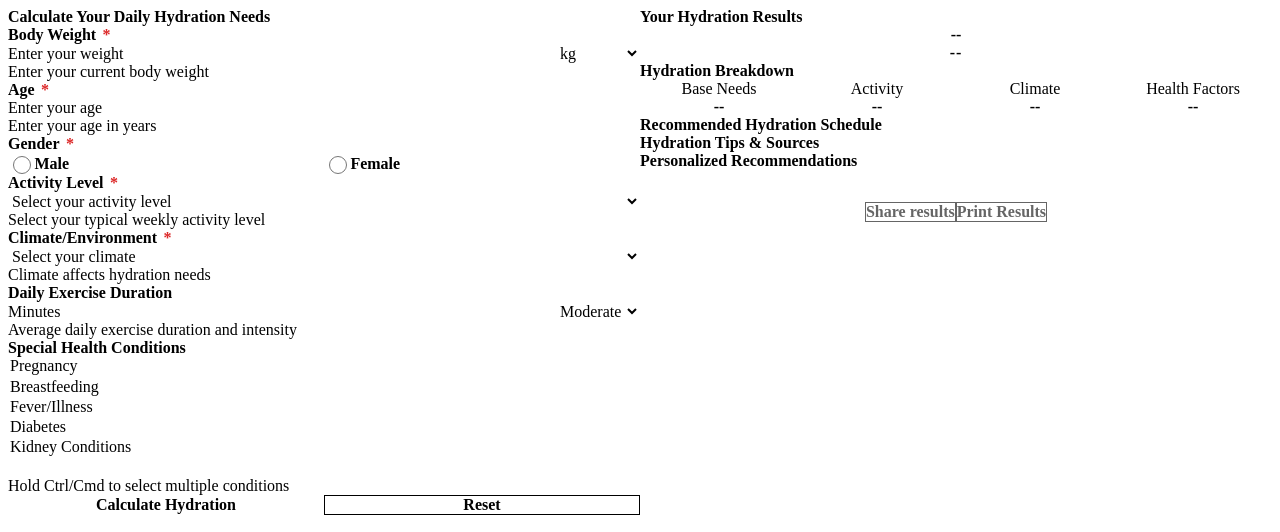
Test case: HydrationCalculator › computes the source water target, breakdown, and schedule
Type "80" into the number field named "Body Weight". click: (282, 54)
box: [8,44,556,63]
Type "30" into the number field labelled "Age". click: (324, 108)
box: [8,99,640,117]
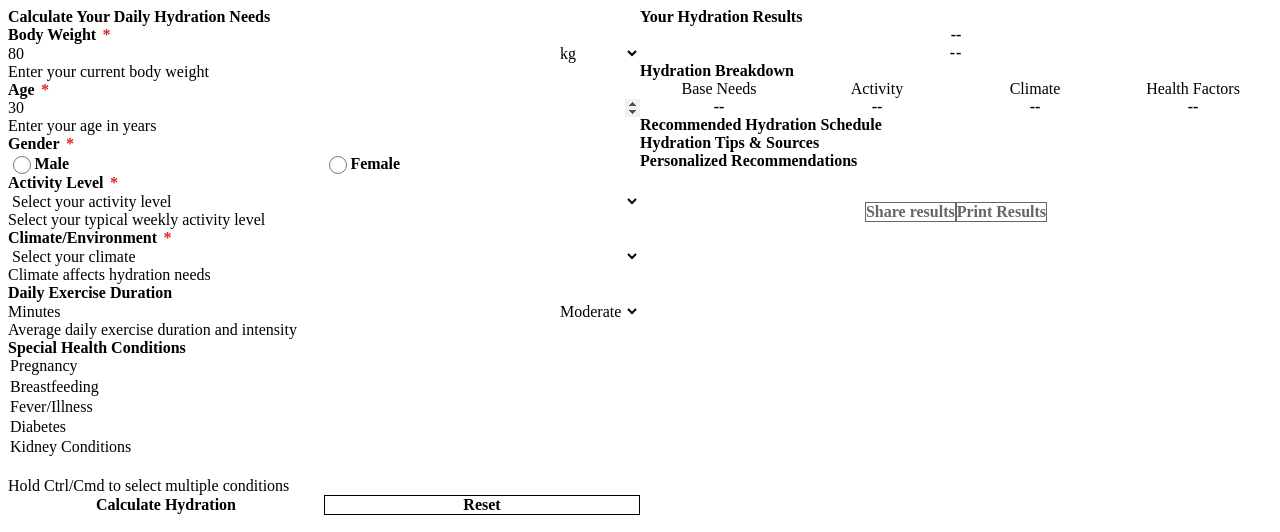
Click the radio button labelled "Male". click: (22, 165)
box: [13,156,31,174]
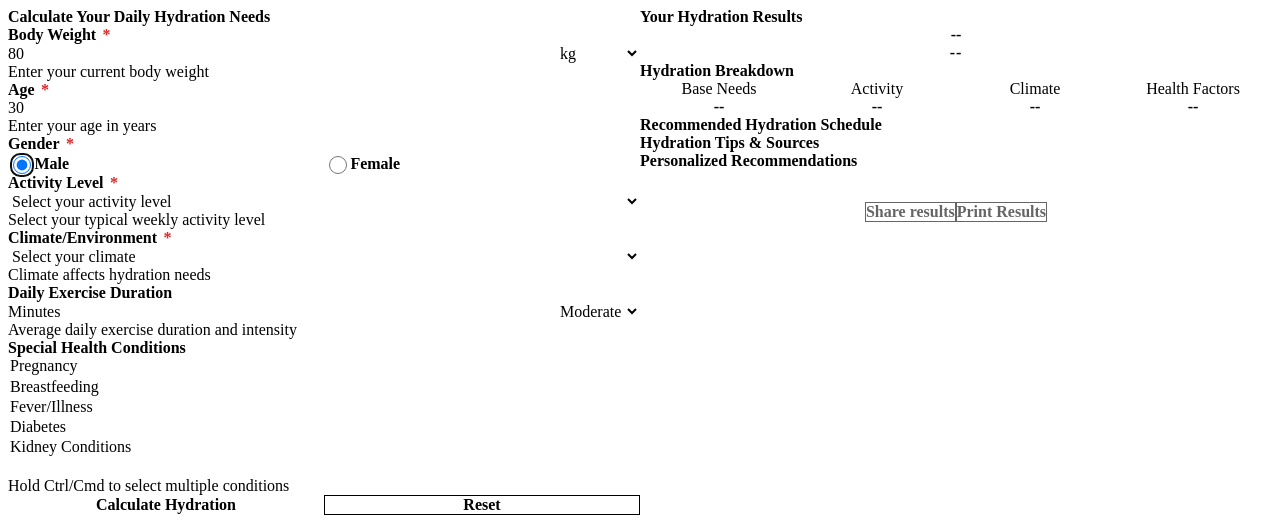
Select "Moderate (exercise 3-5 days/week)" in the dropdown labelled "Activity Level". click: (324, 202)
box: [8,192,640,211]
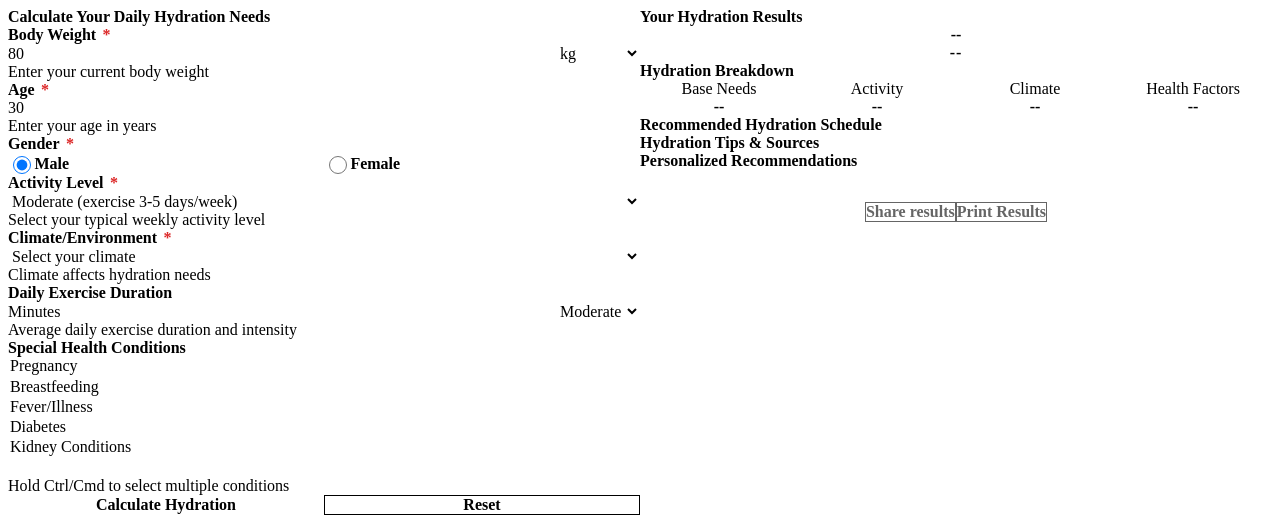
Select "Temperate (moderate temperature)" in the dropdown labelled "Climate/Environment". click: (324, 257)
box: [8,247,640,266]
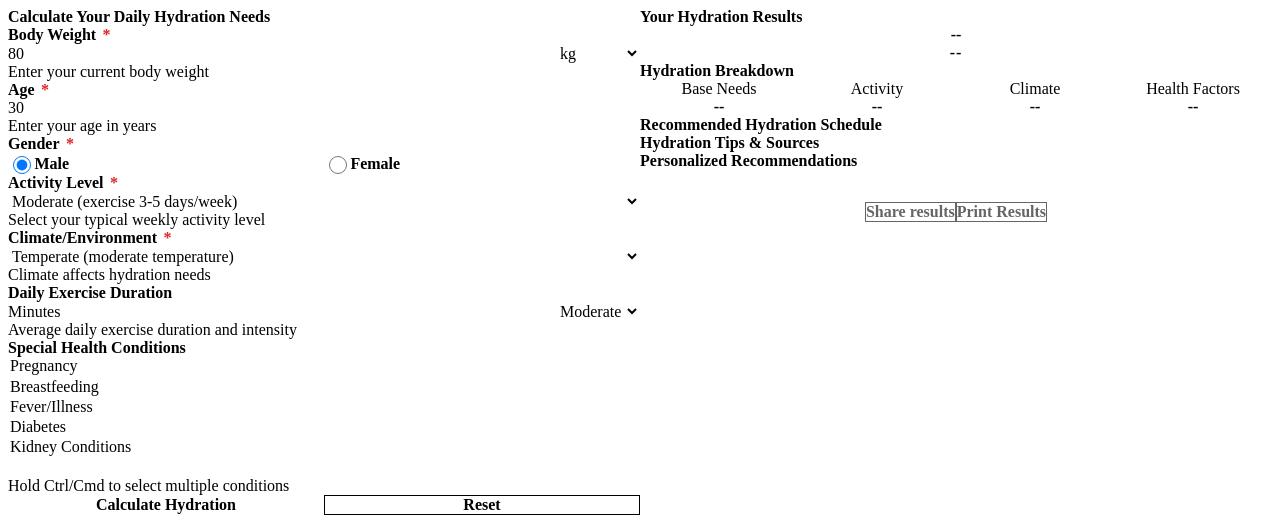
Type "60" into the number field named "Daily Exercise Duration". click: (282, 312)
box: [8,302,556,321]
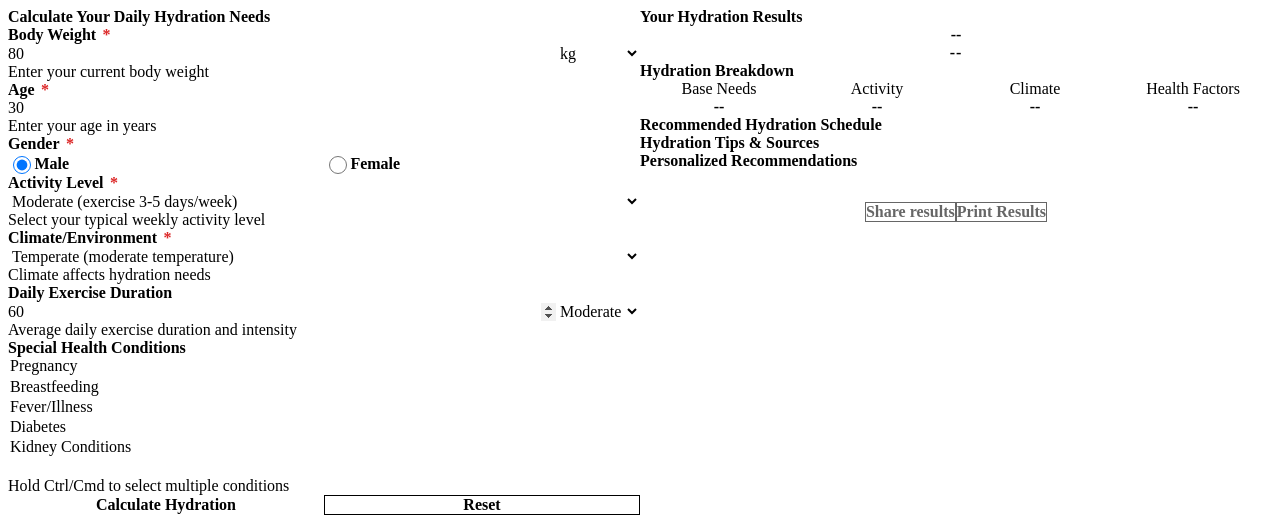
Click the button "Calculate Hydration". click: (166, 505)
box: [8,495,324,515]
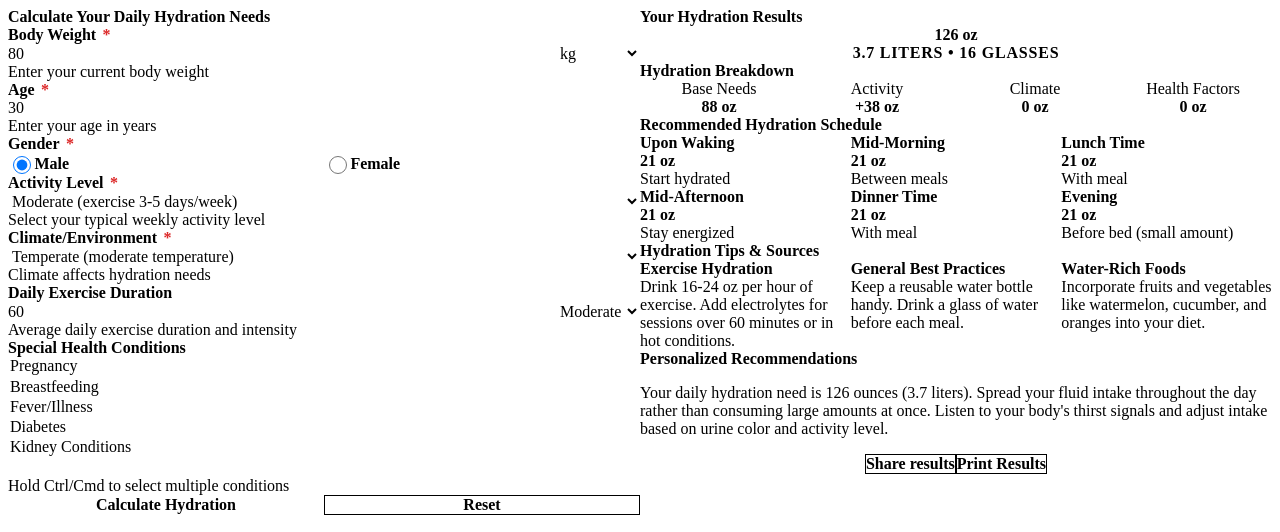
Expected: the element "Your Hydration Results" shows "126 oz", [934,26,978,43]
Expected: the element "Your Hydration Results" shows "3.7 liters", [853,44,1059,61]
Expected: the element "Your Hydration Results" shows "16 glasses", [853,44,1059,61]
